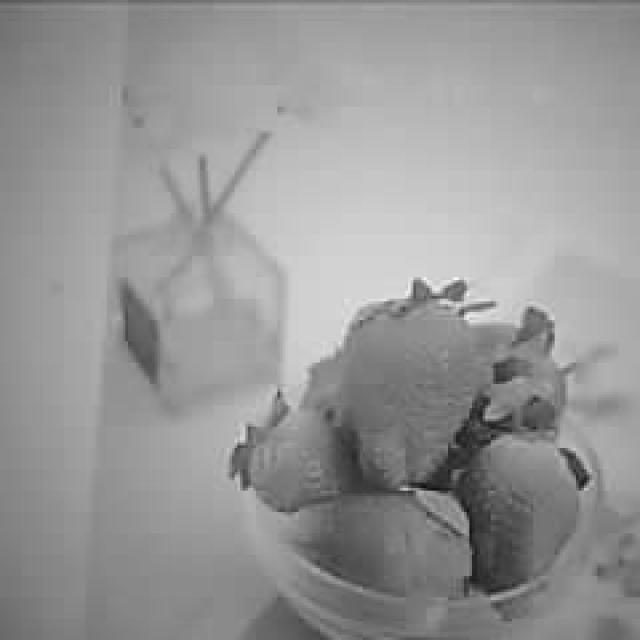ripe: (344, 302, 486, 481), (467, 436, 573, 591)
